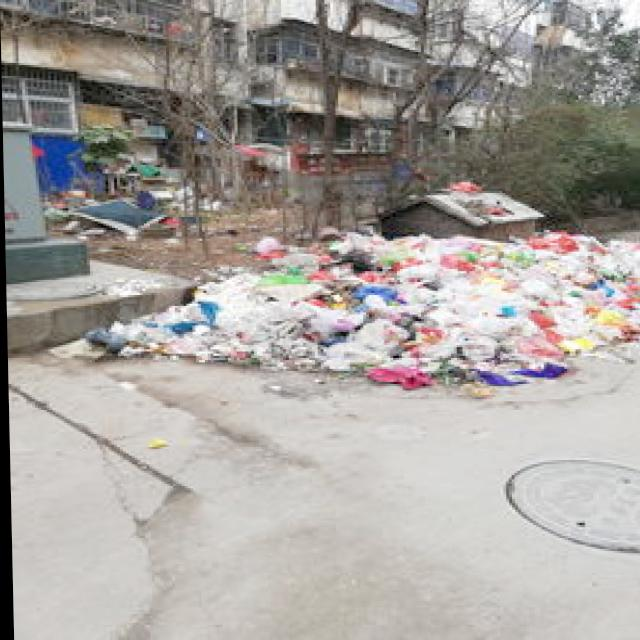garbage: (79, 228, 640, 395)
